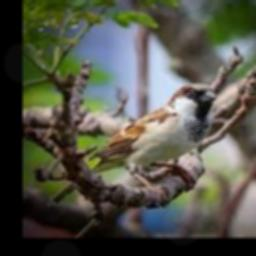Sparrow: (88, 83, 216, 196)
